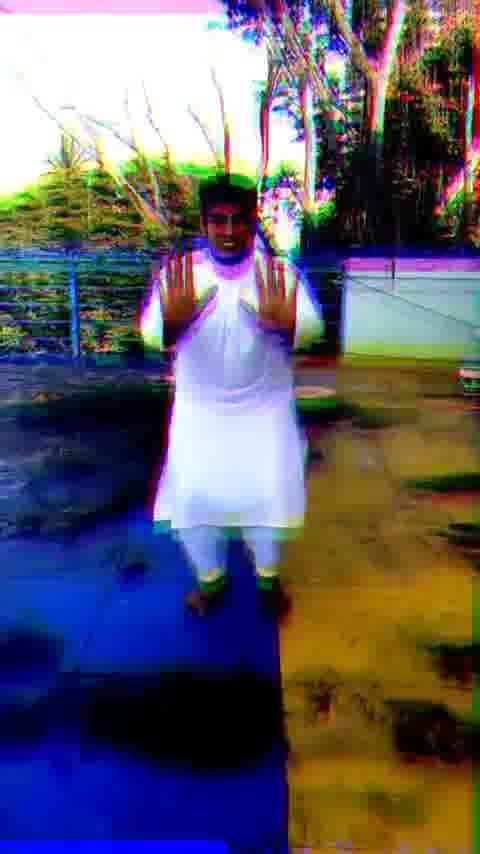duck: (126, 171, 332, 631)
